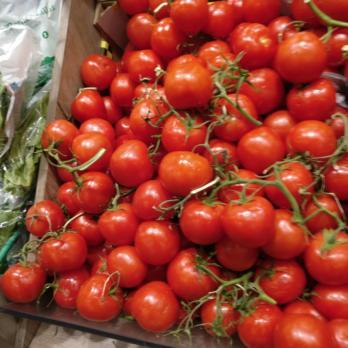Tomato: (120, 0, 348, 334), (45, 120, 125, 317), (0, 262, 51, 299)
